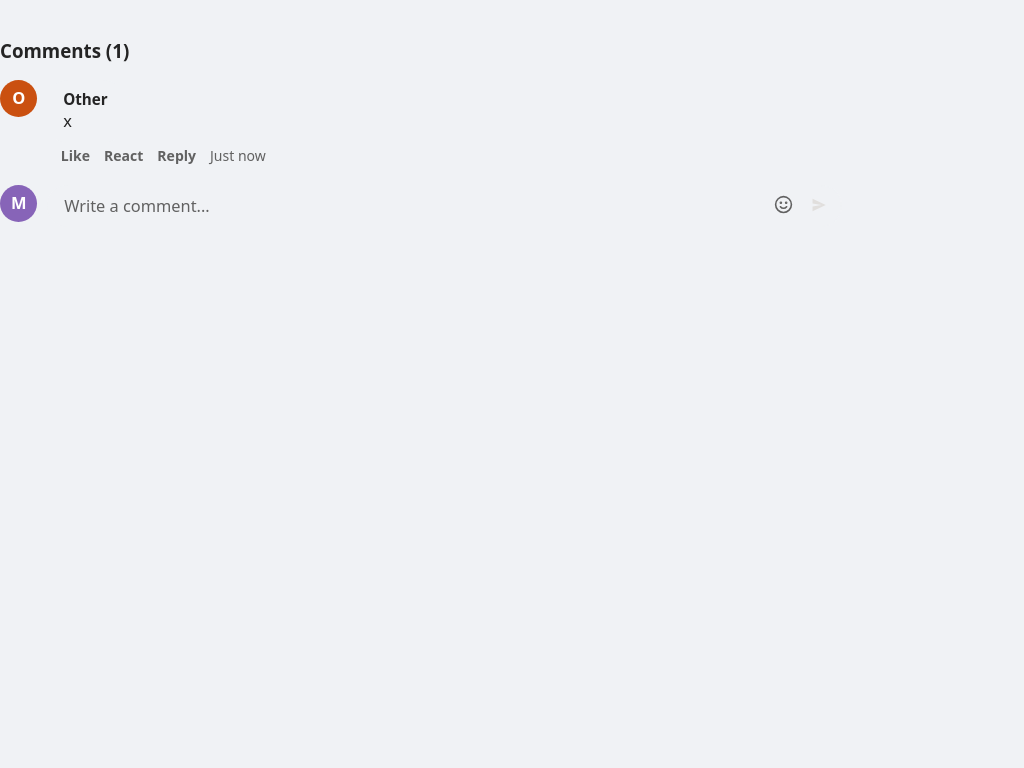
TaskComments › should_reactWithQuickEmoji_fromThePicker
Click the button with test id "add-reaction" at {"x": 124, "y": 157}, box [104,147,143,166]
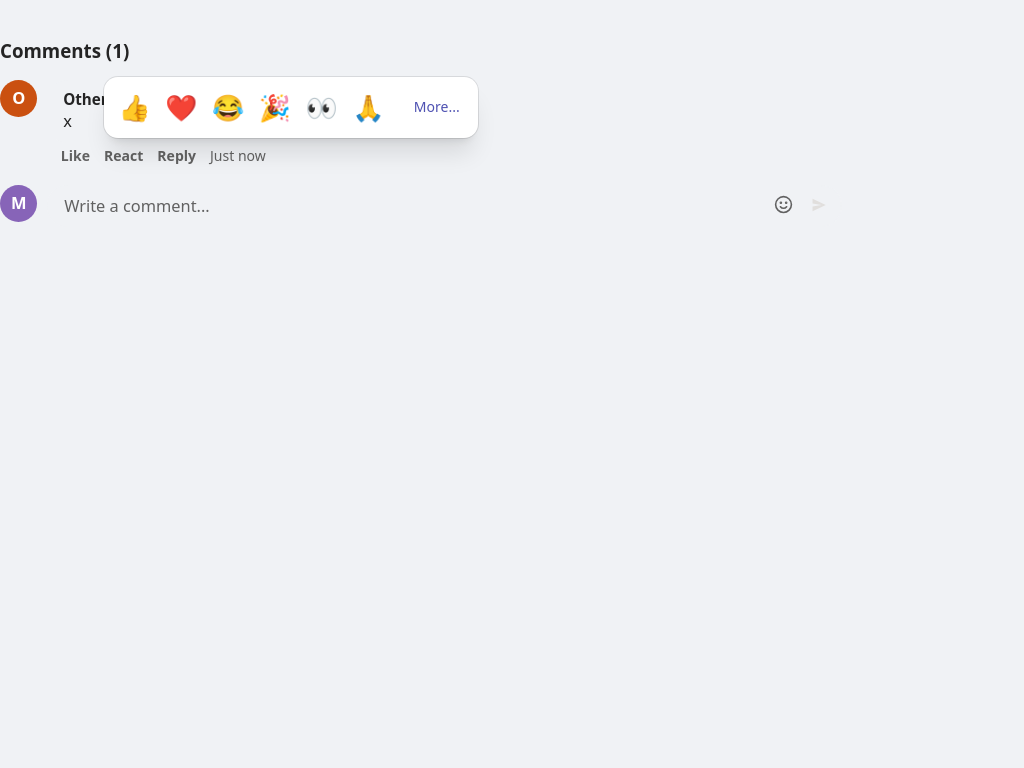
Click the button named "❤️" at {"x": 181, "y": 108}, box [160,87,202,129]
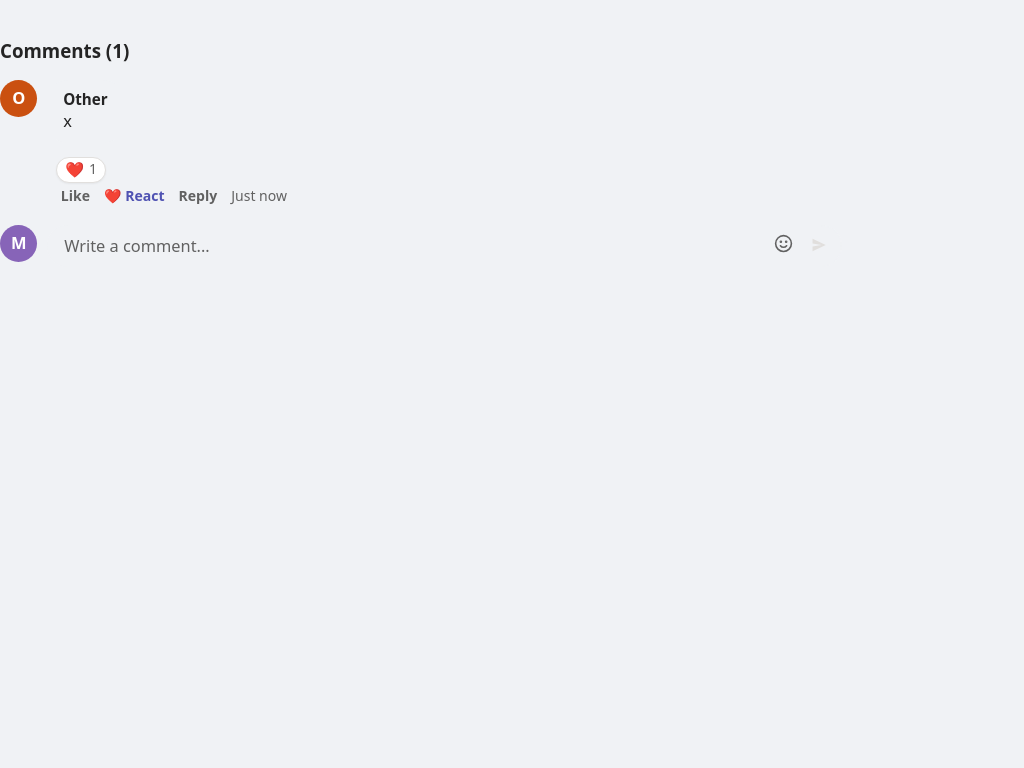
Expected: the button with test id "add-reaction" shows "❤️", [104,187,164,206]
